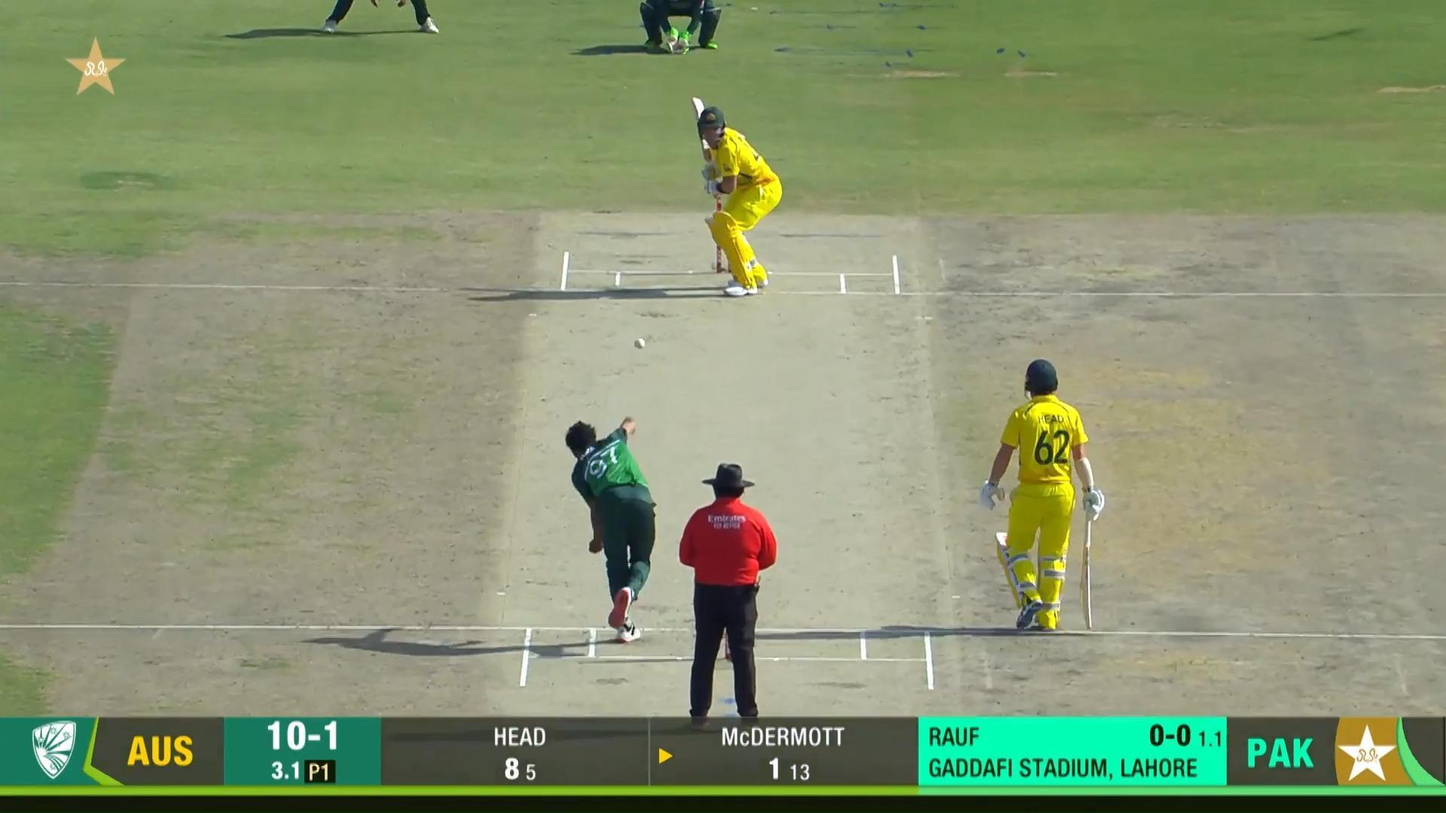BM 1: (689, 96, 784, 296)
BO: (564, 416, 658, 643)
